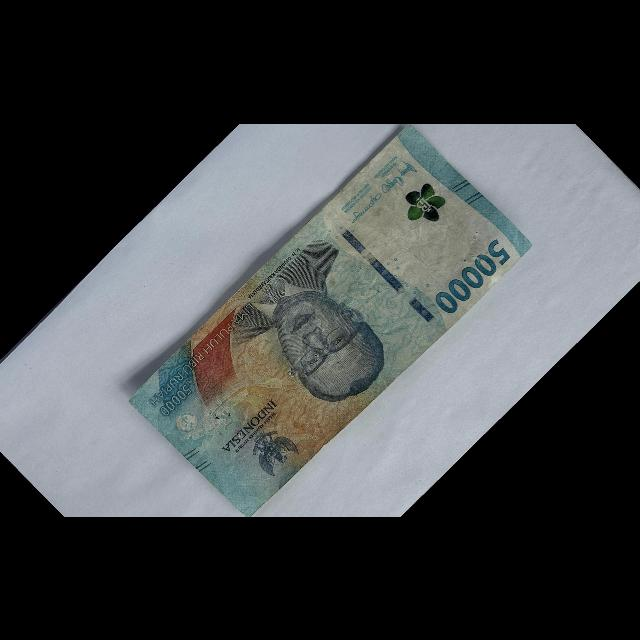Palsu-50k: (123, 117, 538, 525)
Tinta-Palsu-50k: (394, 175, 454, 234)
